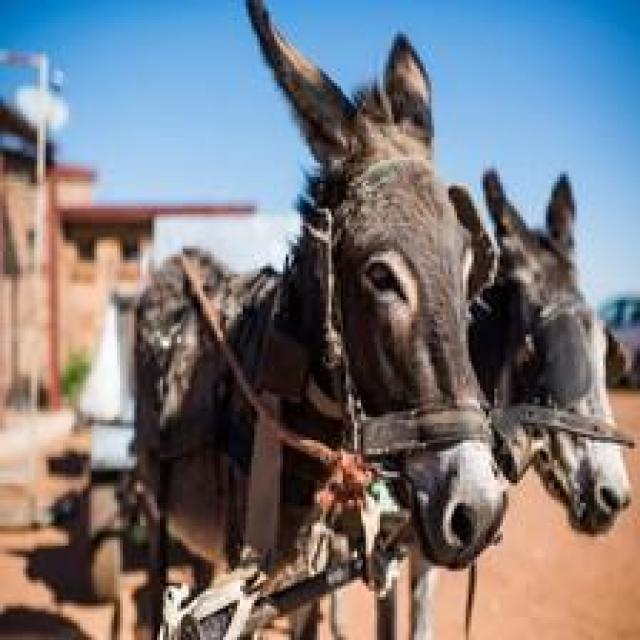Donkey: (126, 0, 506, 637), (286, 166, 634, 637)
